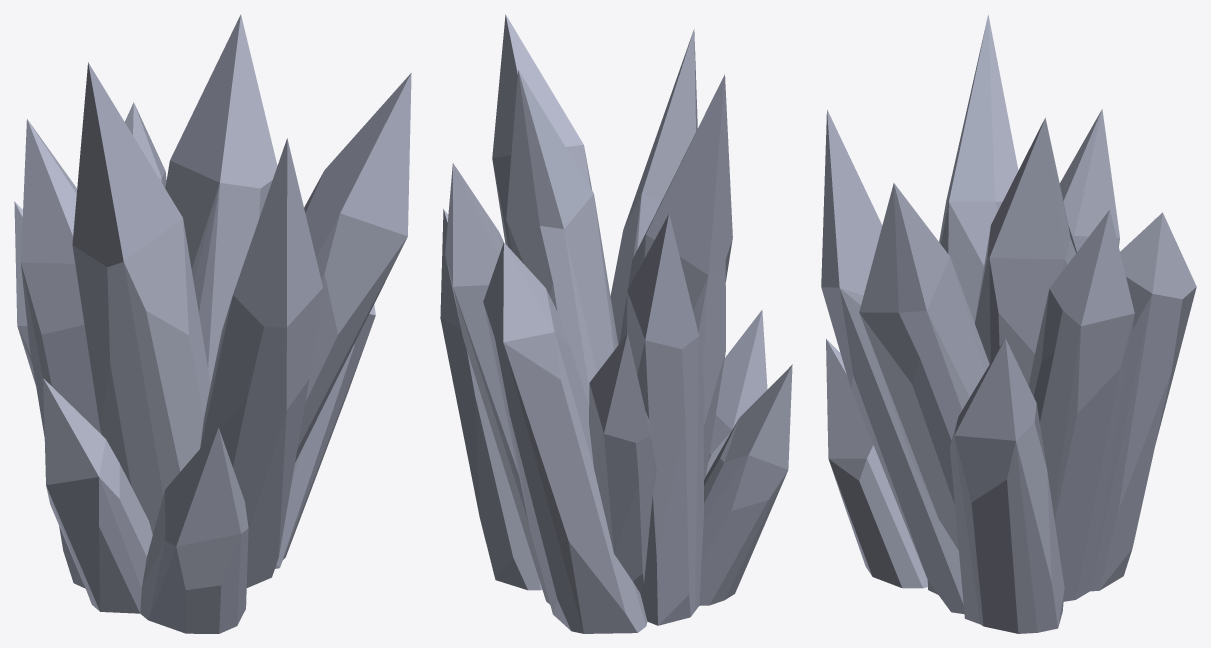
The model's file is crystals 2.fbx.
3 renders of one model, left to right at view 1: azimuth 30°, elevation 25°; view 2: azimuth 150°, elevation 25°; view 3: azimuth 270°, elevation 25°, orthographic. The views are drawn at different scales.
Parts seen in each view (by area): view 1: crystals 2; view 2: crystals 2; view 3: crystals 2.
Part boxes in pixels (x1=…): crystals 2: x1=14, y1=14, x2=411, y2=633; crystals 2: x1=440, y1=14, x2=792, y2=633; crystals 2: x1=821, y1=15, x2=1196, y2=633.
Size of the model in its own units: 33.81 by 51.93 by 33.9.
